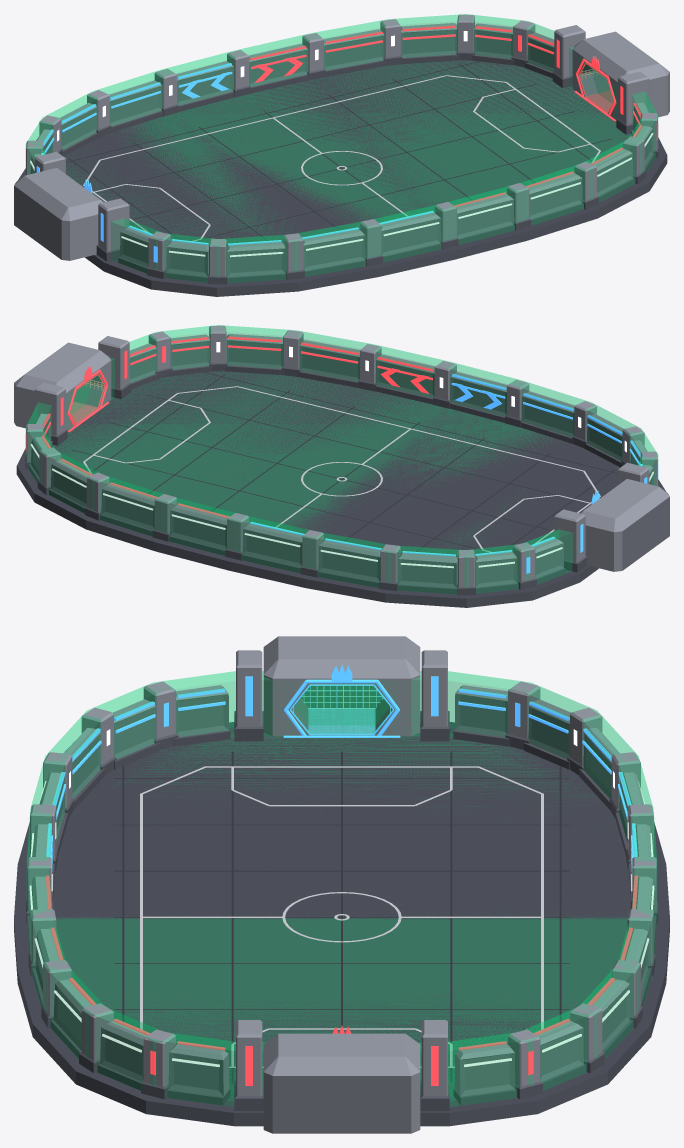
Rendered from KickdomArena_ArenaOnly.glb.
The picture shows the model from 3 angles, top to bottom: view 1: azimuth 30°, elevation 25°; view 2: azimuth 150°, elevation 25°; view 3: azimuth 270°, elevation 25°; orthographic projection. The views are drawn at different scales.
Parts seen in each view (by area): view 1: Arena_FloorSlab, COL_BarrierWall, COL_PitchFloor, Goal_Blue, Goal_Red, Arena_FloorGrooves, Barrier_Panel_15, Barrier_Panel_16, Barrier_Panel_14, Barrier_Panel_04, Barrier_Panel_17, Barrier_Panel_05 (+29 smaller); view 2: Arena_FloorSlab, COL_BarrierWall, COL_PitchFloor, Goal_Blue, Goal_Red, Arena_FloorGrooves, Barrier_Panel_07, Barrier_Panel_06, Barrier_Panel_08, Barrier_Panel_18, Barrier_Panel_05, Barrier_Panel_17 (+29 smaller); view 3: Arena_FloorSlab, COL_PitchFloor, COL_BarrierWall, Goal_Blue, Goal_Red, Arena_FloorGrooves, Pitch_Lines, Barrier_Panel_01, Barrier_Panel_21, Barrier_Panel_10, Barrier_Panel_12, Barrier_Panel_02 (+33 smaller).
Boxes of the visible parts, box(x1,y1,x2,y2) form: Arena_FloorSlab: box(18, 60, 667, 296); COL_BarrierWall: box(26, 14, 657, 282); COL_PitchFloor: box(68, 61, 630, 234); Goal_Blue: box(14, 151, 129, 261); Goal_Red: box(552, 25, 669, 134); Arena_FloorGrooves: box(66, 61, 612, 240); Barrier_Panel_15: box(302, 227, 365, 276); Barrier_Panel_16: box(379, 211, 441, 262); Barrier_Panel_14: box(226, 240, 286, 283); Barrier_Panel_04: box(324, 29, 386, 76); Barrier_Panel_17: box(454, 192, 514, 244); Barrier_Panel_05: box(249, 43, 308, 93); Arena_FloorSlab: box(16, 371, 665, 607); COL_BarrierWall: box(26, 325, 657, 593); COL_PitchFloor: box(53, 372, 547, 533); Goal_Blue: box(554, 462, 669, 572); Goal_Red: box(14, 336, 131, 445); Arena_FloorGrooves: box(71, 372, 617, 551); Barrier_Panel_07: box(318, 538, 381, 587); Barrier_Panel_06: box(242, 522, 304, 573); Barrier_Panel_08: box(397, 551, 457, 594); Barrier_Panel_18: box(297, 340, 359, 387); Barrier_Panel_05: box(169, 503, 229, 555); Barrier_Panel_17: box(375, 354, 434, 404); Arena_FloorSlab: box(14, 722, 669, 1126); COL_PitchFloor: box(56, 734, 627, 1041); COL_BarrierWall: box(27, 671, 656, 1106); Goal_Blue: box(234, 636, 449, 741); Goal_Red: box(234, 1020, 449, 1133); Arena_FloorGrooves: box(114, 751, 569, 1082); Pitch_Lines: box(140, 766, 543, 1067); Barrier_Panel_01: box(453, 1041, 516, 1105); Barrier_Panel_21: box(167, 1041, 230, 1105); Barrier_Panel_10: box(453, 685, 509, 746); Barrier_Panel_12: box(174, 685, 230, 746); Barrier_Panel_02: box(533, 1019, 586, 1090).
Bounding box in the file's own units: 56.2 × 5.35 × 36.
